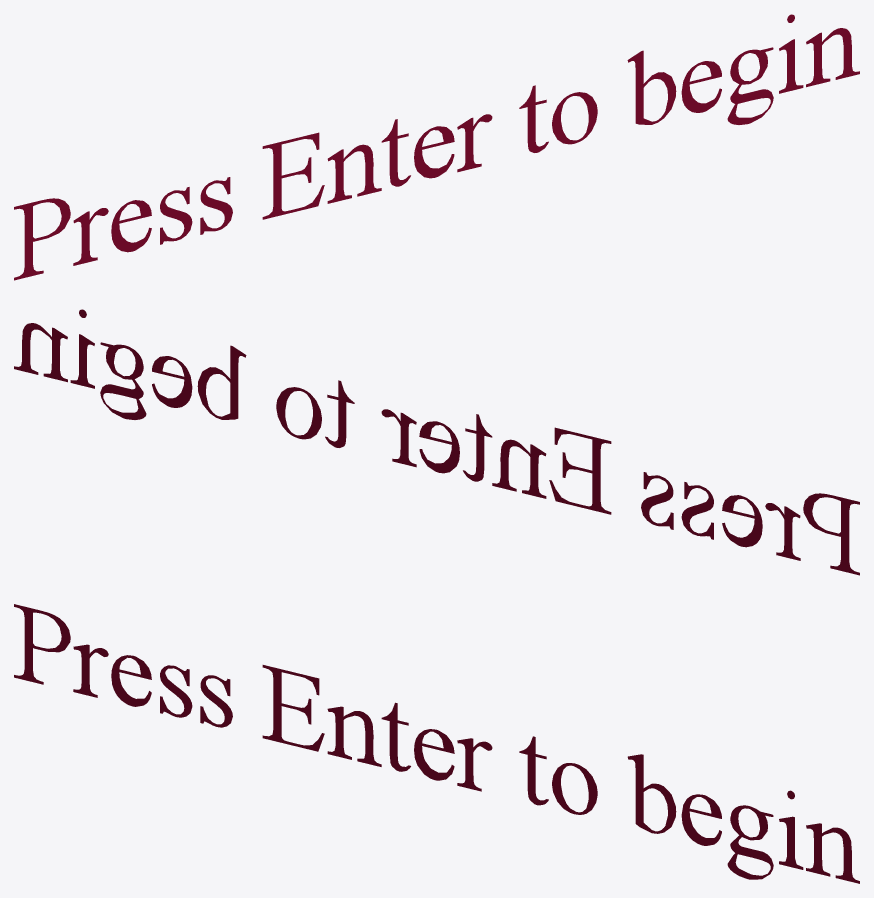
File: begin_text.obj
3 views of the same model, one above another, from view 1: azimuth 30°, elevation 25°; view 2: azimuth 150°, elevation 25°; view 3: azimuth 330°, elevation 25° (orthographic).
Parts seen in each view (by area): view 1: Trim_Text_PressxEnterxtoxbegin_1_1 Trim_Char_E_1_1, Trim_Text_PressxEnterxtoxbegin_1_1 Trim_Char_g_1_1, Trim_Char_P_1_1 Trim_Text_PressxEnterxtoxbegin_1_1, Trim_Text_PressxEnterxtoxbegin_1_1 Trim_Char_b_1_1, Trim_Text_PressxEnterxtoxbegin_1_1 Trim_Char_n_1_1, Trim_Text_PressxEnterxtoxbegin_1_1 Trim_Char_n_2_1, Trim_Text_PressxEnterxtoxbegin_1_1 Trim_Char_e_1_1, Trim_Text_PressxEnterxtoxbegin_1_1 Trim_Char_e_2_1, Trim_Text_PressxEnterxtoxbegin_1_1 Trim_Char_e_3_1, Trim_Text_PressxEnterxtoxbegin_1_1 Trim_Char_o_1_1, Trim_Text_PressxEnterxtoxbegin_1_1 Trim_Char_s_2_1, Trim_Text_PressxEnterxtoxbegin_1_1 Trim_Char_s_1_1 (+5 smaller); view 2: Trim_Text_PressxEnterxtoxbegin_1_1 Trim_Char_E_1_1, Trim_Text_PressxEnterxtoxbegin_1_1 Trim_Char_g_1_1, Trim_Char_P_1_1 Trim_Text_PressxEnterxtoxbegin_1_1, Trim_Text_PressxEnterxtoxbegin_1_1 Trim_Char_b_1_1, Trim_Text_PressxEnterxtoxbegin_1_1 Trim_Char_n_1_1, Trim_Text_PressxEnterxtoxbegin_1_1 Trim_Char_n_2_1, Trim_Text_PressxEnterxtoxbegin_1_1 Trim_Char_e_1_1, Trim_Text_PressxEnterxtoxbegin_1_1 Trim_Char_e_2_1, Trim_Text_PressxEnterxtoxbegin_1_1 Trim_Char_e_3_1, Trim_Text_PressxEnterxtoxbegin_1_1 Trim_Char_o_1_1, Trim_Text_PressxEnterxtoxbegin_1_1 Trim_Char_s_2_1, Trim_Text_PressxEnterxtoxbegin_1_1 Trim_Char_s_1_1 (+5 smaller); view 3: Trim_Text_PressxEnterxtoxbegin_1_1 Trim_Char_E_1_1, Trim_Text_PressxEnterxtoxbegin_1_1 Trim_Char_g_1_1, Trim_Char_P_1_1 Trim_Text_PressxEnterxtoxbegin_1_1, Trim_Text_PressxEnterxtoxbegin_1_1 Trim_Char_b_1_1, Trim_Text_PressxEnterxtoxbegin_1_1 Trim_Char_n_1_1, Trim_Text_PressxEnterxtoxbegin_1_1 Trim_Char_n_2_1, Trim_Text_PressxEnterxtoxbegin_1_1 Trim_Char_e_1_1, Trim_Text_PressxEnterxtoxbegin_1_1 Trim_Char_e_2_1, Trim_Text_PressxEnterxtoxbegin_1_1 Trim_Char_e_3_1, Trim_Text_PressxEnterxtoxbegin_1_1 Trim_Char_o_1_1, Trim_Text_PressxEnterxtoxbegin_1_1 Trim_Char_s_2_1, Trim_Text_PressxEnterxtoxbegin_1_1 Trim_Char_s_1_1 (+5 smaller).
Boxes of the visible parts, bbox=[...] form: Trim_Text_PressxEnterxtoxbegin_1_1 Trim_Char_E_1_1: bbox=[262, 132, 324, 219]; Trim_Text_PressxEnterxtoxbegin_1_1 Trim_Char_g_1_1: bbox=[727, 47, 773, 124]; Trim_Char_P_1_1 Trim_Text_PressxEnterxtoxbegin_1_1: bbox=[14, 198, 70, 280]; Trim_Text_PressxEnterxtoxbegin_1_1 Trim_Char_b_1_1: bbox=[627, 50, 676, 124]; Trim_Text_PressxEnterxtoxbegin_1_1 Trim_Char_n_1_1: bbox=[327, 144, 381, 203]; Trim_Text_PressxEnterxtoxbegin_1_1 Trim_Char_n_2_1: bbox=[806, 28, 859, 87]; Trim_Text_PressxEnterxtoxbegin_1_1 Trim_Char_e_1_1: bbox=[111, 200, 151, 252]; Trim_Text_PressxEnterxtoxbegin_1_1 Trim_Char_e_2_1: bbox=[414, 126, 454, 178]; Trim_Text_PressxEnterxtoxbegin_1_1 Trim_Char_e_3_1: bbox=[681, 61, 721, 112]; Trim_Text_PressxEnterxtoxbegin_1_1 Trim_Char_o_1_1: bbox=[552, 92, 597, 144]; Trim_Text_PressxEnterxtoxbegin_1_1 Trim_Char_s_2_1: bbox=[200, 177, 232, 234]; Trim_Text_PressxEnterxtoxbegin_1_1 Trim_Char_s_1_1: bbox=[160, 187, 192, 244]; Trim_Text_PressxEnterxtoxbegin_1_1 Trim_Char_E_1_1: bbox=[549, 427, 611, 514]; Trim_Text_PressxEnterxtoxbegin_1_1 Trim_Char_g_1_1: bbox=[100, 342, 146, 419]; Trim_Char_P_1_1 Trim_Text_PressxEnterxtoxbegin_1_1: bbox=[803, 493, 859, 575]; Trim_Text_PressxEnterxtoxbegin_1_1 Trim_Char_b_1_1: bbox=[197, 345, 246, 419]; Trim_Text_PressxEnterxtoxbegin_1_1 Trim_Char_n_1_1: bbox=[492, 439, 546, 498]; Trim_Text_PressxEnterxtoxbegin_1_1 Trim_Char_n_2_1: bbox=[14, 323, 67, 382]; Trim_Text_PressxEnterxtoxbegin_1_1 Trim_Char_e_1_1: bbox=[722, 495, 762, 547]; Trim_Text_PressxEnterxtoxbegin_1_1 Trim_Char_e_2_1: bbox=[419, 421, 459, 473]; Trim_Text_PressxEnterxtoxbegin_1_1 Trim_Char_e_3_1: bbox=[152, 356, 192, 407]; Trim_Text_PressxEnterxtoxbegin_1_1 Trim_Char_o_1_1: bbox=[276, 387, 321, 439]; Trim_Text_PressxEnterxtoxbegin_1_1 Trim_Char_s_2_1: bbox=[641, 472, 673, 529]; Trim_Text_PressxEnterxtoxbegin_1_1 Trim_Char_s_1_1: bbox=[681, 482, 713, 539]; Trim_Text_PressxEnterxtoxbegin_1_1 Trim_Char_E_1_1: bbox=[262, 665, 324, 751]; Trim_Text_PressxEnterxtoxbegin_1_1 Trim_Char_g_1_1: bbox=[727, 805, 773, 879]; Trim_Char_P_1_1 Trim_Text_PressxEnterxtoxbegin_1_1: bbox=[14, 604, 70, 684]; Trim_Text_PressxEnterxtoxbegin_1_1 Trim_Char_b_1_1: bbox=[627, 754, 676, 833]; Trim_Text_PressxEnterxtoxbegin_1_1 Trim_Char_n_1_1: bbox=[327, 706, 381, 766]; Trim_Text_PressxEnterxtoxbegin_1_1 Trim_Char_n_2_1: bbox=[806, 823, 859, 883]; Trim_Text_PressxEnterxtoxbegin_1_1 Trim_Char_e_1_1: bbox=[111, 655, 151, 706]; Trim_Text_PressxEnterxtoxbegin_1_1 Trim_Char_e_2_1: bbox=[414, 729, 454, 780]; Trim_Text_PressxEnterxtoxbegin_1_1 Trim_Char_e_3_1: bbox=[681, 794, 721, 845]; Trim_Text_PressxEnterxtoxbegin_1_1 Trim_Char_o_1_1: bbox=[552, 763, 597, 814]; Trim_Text_PressxEnterxtoxbegin_1_1 Trim_Char_s_2_1: bbox=[200, 675, 232, 727]; Trim_Text_PressxEnterxtoxbegin_1_1 Trim_Char_s_1_1: bbox=[160, 665, 192, 717].
Bounding box in the file's own units: 31.3 × 3.5 × 0.
